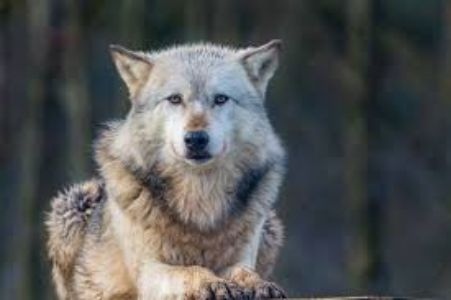wolf: (55, 29, 317, 293)
